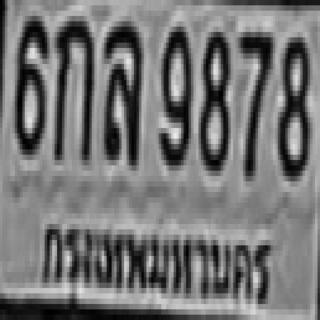A01: (52, 11, 92, 160)
A36: (102, 16, 139, 160)
N06: (12, 11, 45, 149)
N07: (238, 27, 270, 176)
N08: (275, 32, 308, 176), (198, 29, 228, 168)
N09: (156, 24, 189, 163)
P04: (40, 209, 276, 311)
